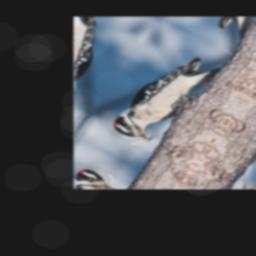Woodpecker: (109, 42, 220, 153)
